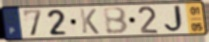2: (47, 9, 71, 37), (137, 5, 159, 34)
7: (22, 8, 44, 38)
B: (102, 6, 130, 36)
J: (163, 4, 187, 34)
K: (78, 8, 101, 35)
